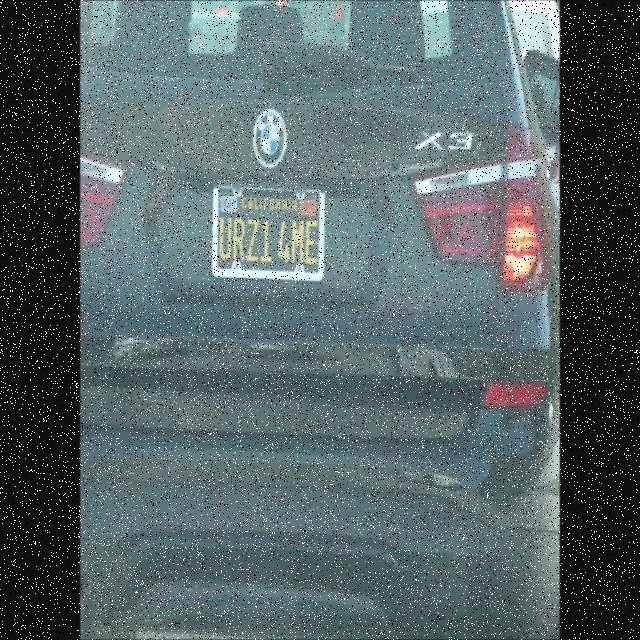LicensePlate: (212, 179, 330, 284)
